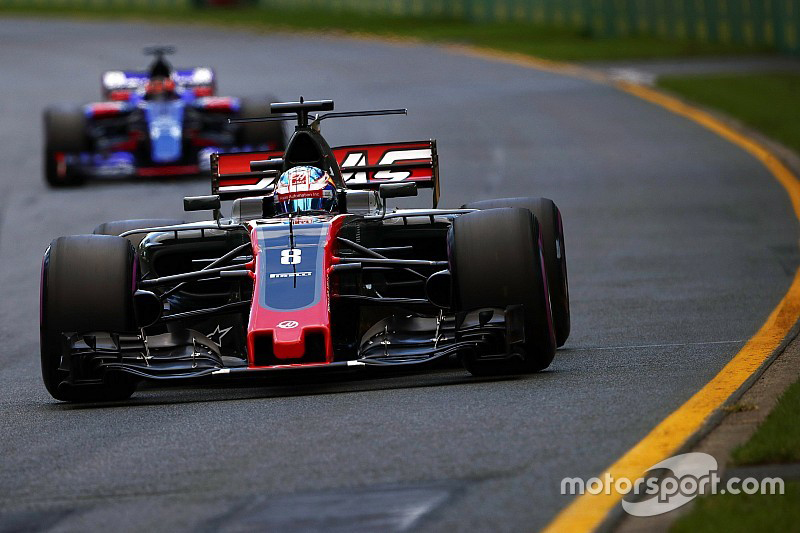F1 Car: (36, 92, 581, 404)
